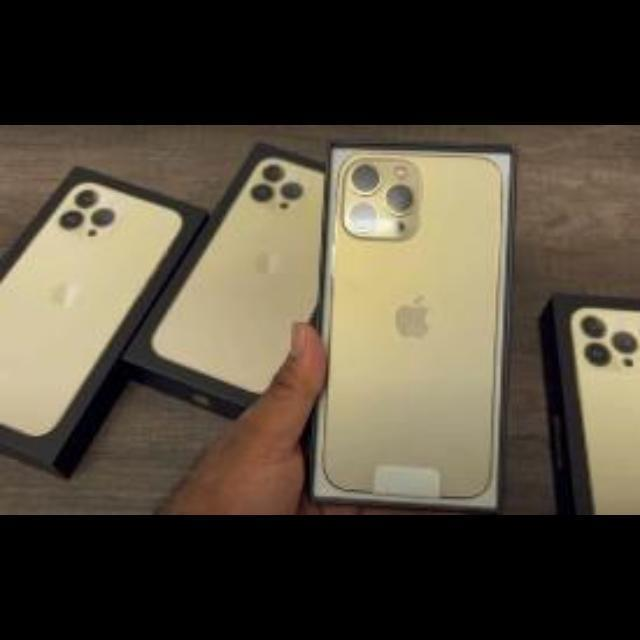phone: (1, 151, 295, 466), (535, 283, 640, 519)
